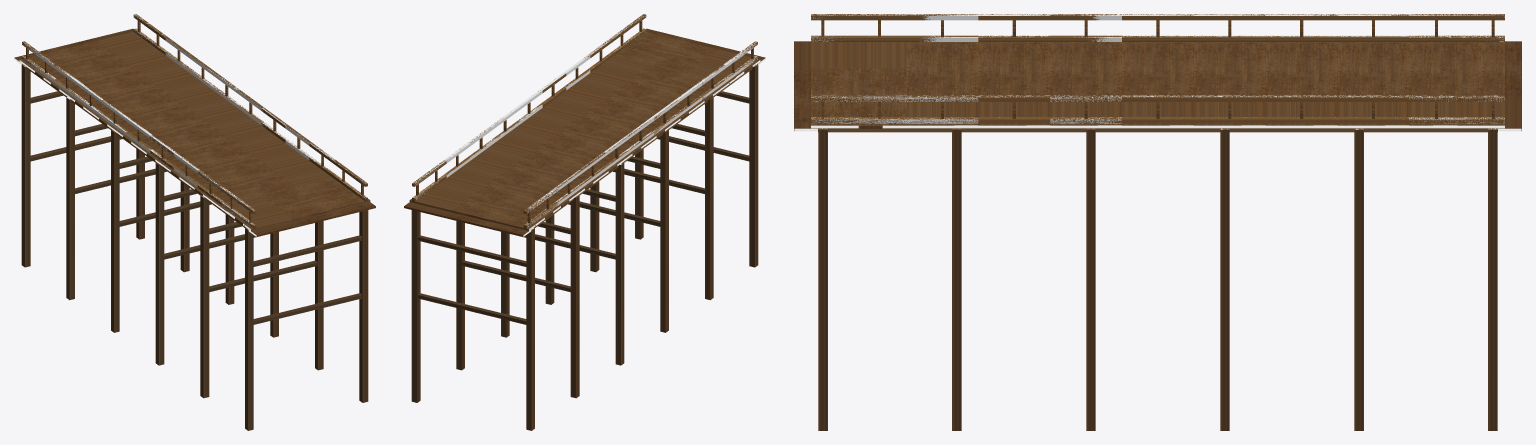
The model's file is objects_un_bridge01_03.gltf.
3 renders of one model, left to right at view 1: azimuth 30°, elevation 25°; view 2: azimuth 150°, elevation 25°; view 3: azimuth 270°, elevation 25°, orthographic. The views are drawn at different scales.
Visible parts, largest first — view 1: um_objects_un_bridge03_model_lod0Shape:objects_un_bridge01_w, um_objects_un_bridge03_model_lod0Shape:objects_un_bridge01_p, um_objects_un_bridge03_model_lod0Shape:objects_un_bridge01_s, um_objects_un_bridge03_model_lod1Shape:objects_un_bridge01_w; view 2: um_objects_un_bridge03_model_lod0Shape:objects_un_bridge01_w, um_objects_un_bridge03_model_lod0Shape:objects_un_bridge01_p, um_objects_un_bridge03_model_lod0Shape:objects_un_bridge01_s, um_objects_un_bridge03_model_lod1Shape:objects_un_bridge01_w; view 3: um_objects_un_bridge03_model_lod0Shape:objects_un_bridge01_p, um_objects_un_bridge03_model_lod0Shape:objects_un_bridge01_w, um_objects_un_bridge03_model_lod0Shape:objects_un_bridge01_s.
Boxes of the visible parts, x1=… form: um_objects_un_bridge03_model_lod0Shape:objects_un_bridge01_w: x1=21, y1=14, x2=368, y2=430; um_objects_un_bridge03_model_lod0Shape:objects_un_bridge01_p: x1=14, y1=28, x2=375, y2=236; um_objects_un_bridge03_model_lod0Shape:objects_un_bridge01_s: x1=14, y1=14, x2=367, y2=236; um_objects_un_bridge03_model_lod1Shape:objects_un_bridge01_w: x1=23, y1=65, x2=248, y2=429; um_objects_un_bridge03_model_lod0Shape:objects_un_bridge01_w: x1=411, y1=14, x2=758, y2=430; um_objects_un_bridge03_model_lod0Shape:objects_un_bridge01_p: x1=404, y1=28, x2=765, y2=236; um_objects_un_bridge03_model_lod0Shape:objects_un_bridge01_s: x1=413, y1=15, x2=765, y2=236; um_objects_un_bridge03_model_lod1Shape:objects_un_bridge01_w: x1=576, y1=65, x2=758, y2=267; um_objects_un_bridge03_model_lod0Shape:objects_un_bridge01_p: x1=794, y1=41, x2=1521, y2=130; um_objects_un_bridge03_model_lod0Shape:objects_un_bridge01_w: x1=811, y1=14, x2=1504, y2=430; um_objects_un_bridge03_model_lod0Shape:objects_un_bridge01_s: x1=794, y1=14, x2=1521, y2=131.
Size of what is drawn, in the model's own units: 6.53 by 11.45 by 22.8.
3 materials, 2 textured.
